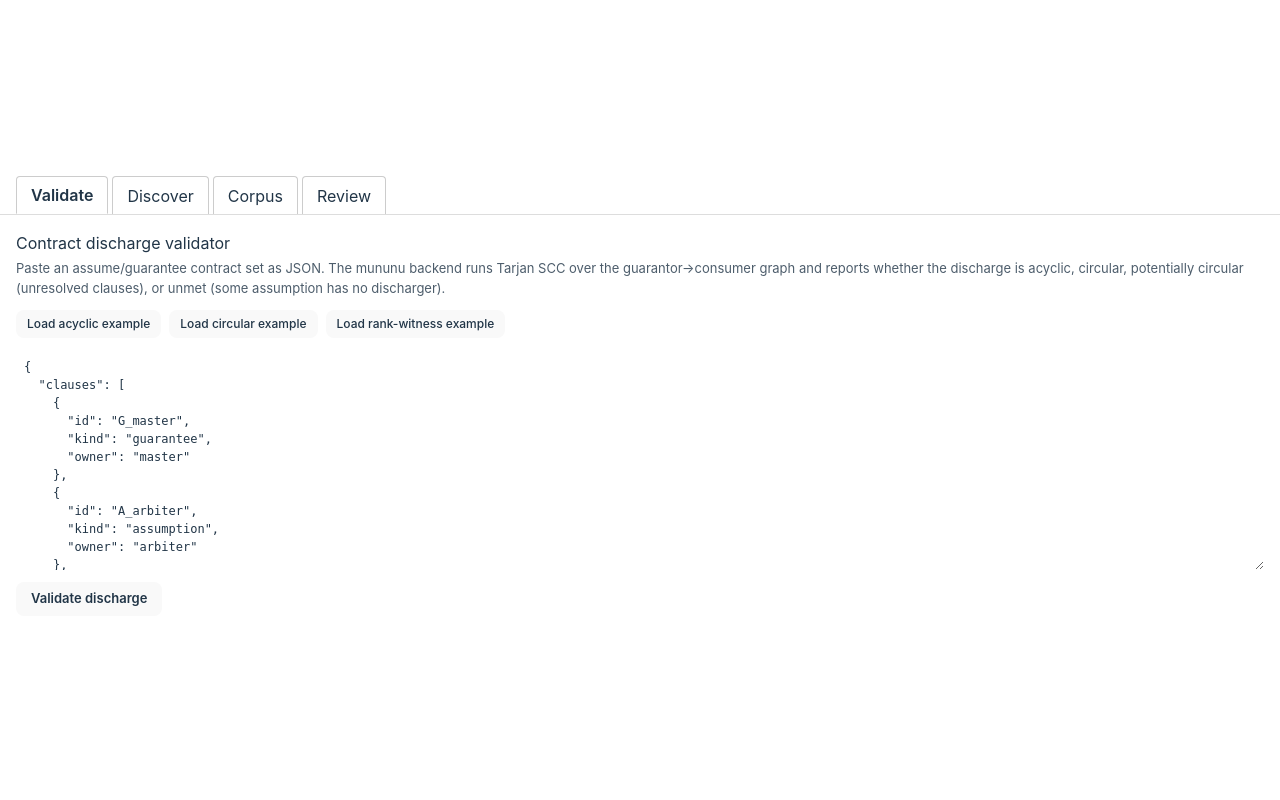
ContractPanel › renders corpus resolutions when the response includes them
This screenshot has width=1280, height=800.
Step 1. Click the button "Discover" → (161, 195), box [112, 176, 209, 214]
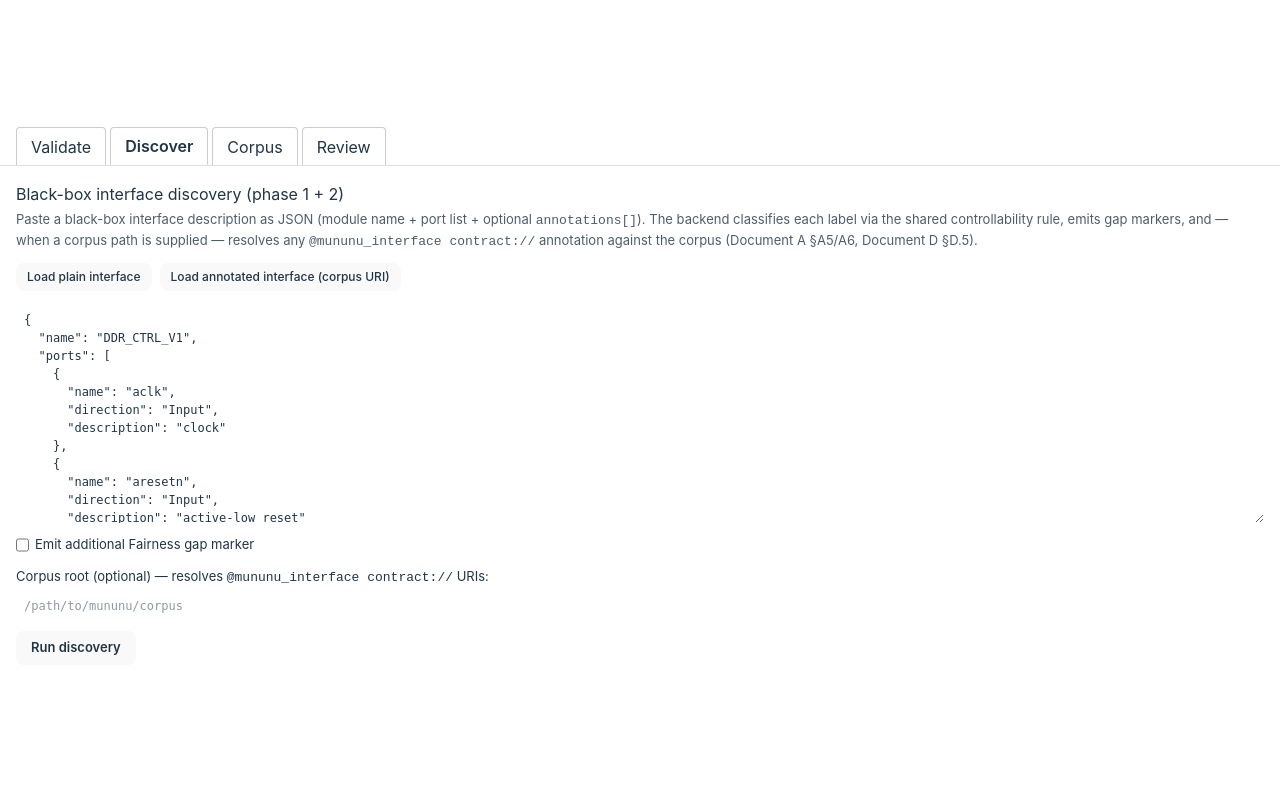
Step 2. Click the button "Run discovery" → (76, 648), box [16, 631, 136, 665]
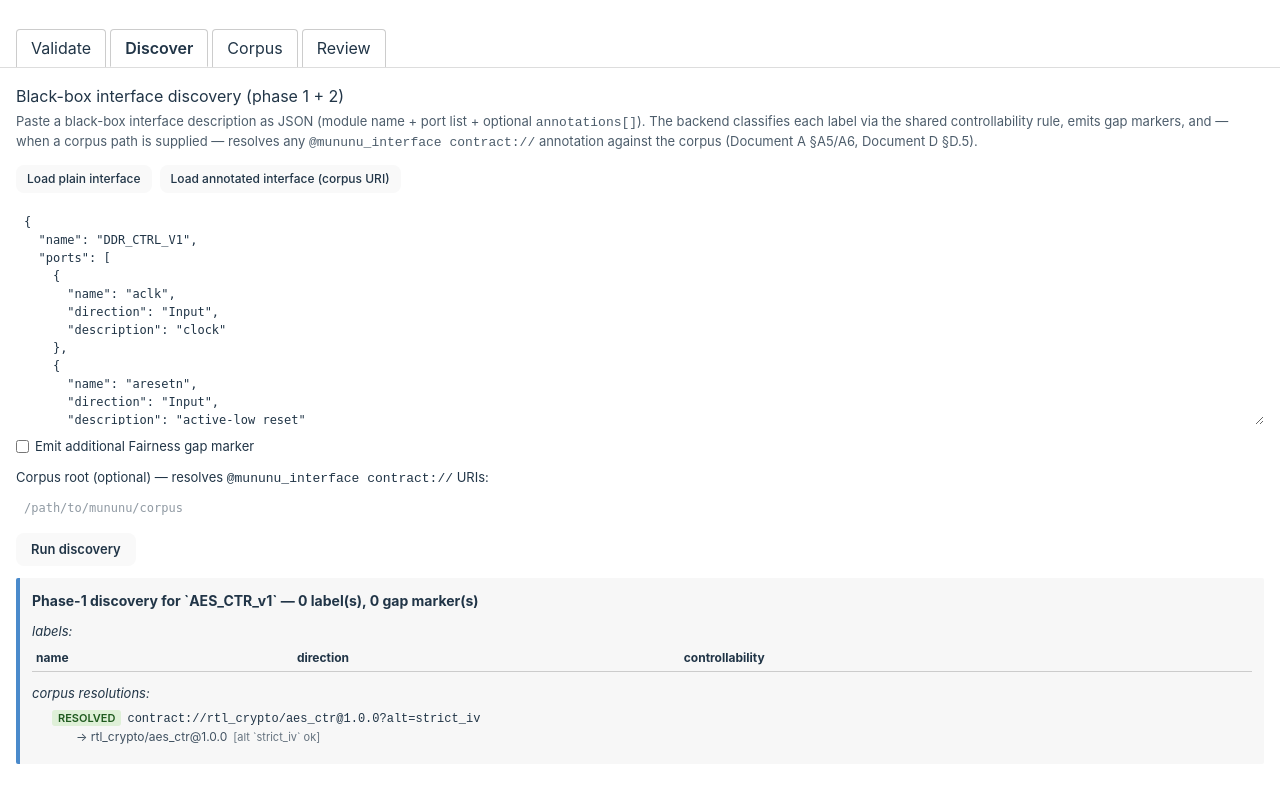
Result: the text "corpus resolutions:" is shown at [32, 685, 150, 701]
Result: the text "resolved" is shown at [52, 710, 122, 726]
Result: the text "[alt `strict_iv` ok]" is shown at [233, 730, 320, 744]
